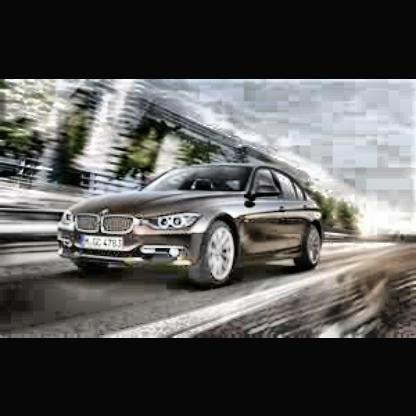BMW 3 Series Sedan 2012: (56, 145, 331, 294)
